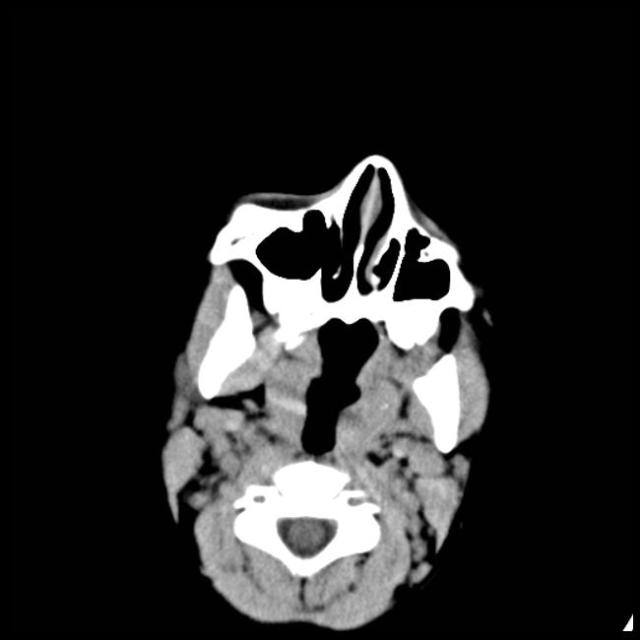lesion: (156, 150, 502, 633)
